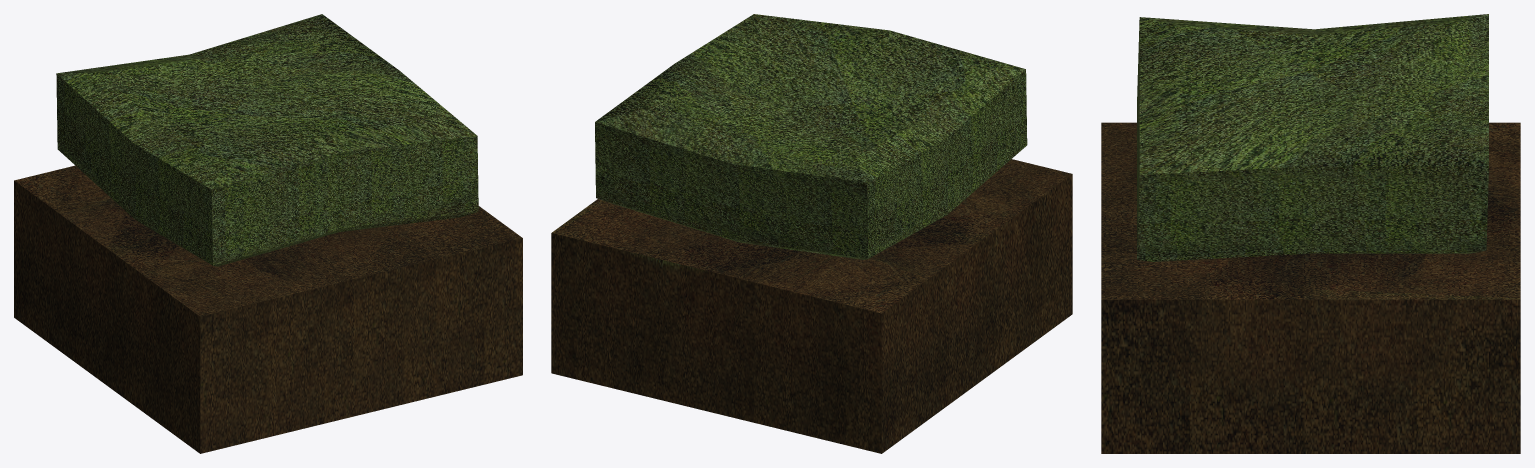
File: Hedge.glb
3 views of the same model, side by side, from view 1: azimuth 30°, elevation 25°; view 2: azimuth 150°, elevation 25°; view 3: azimuth 270°, elevation 25° (orthographic). The views are drawn at different scales.
Parts seen in each view (by area): view 1: Hedge; view 2: Hedge; view 3: Hedge.
Part boxes in pixels (left/top/right/bottom): Hedge: left=14, top=14, right=522, bottom=453; Hedge: left=551, top=14, right=1072, bottom=453; Hedge: left=1101, top=14, right=1520, bottom=453.
Size of the model in its own units: 2 by 1.51 by 2.
Materials: 1 (1 with a texture image).
